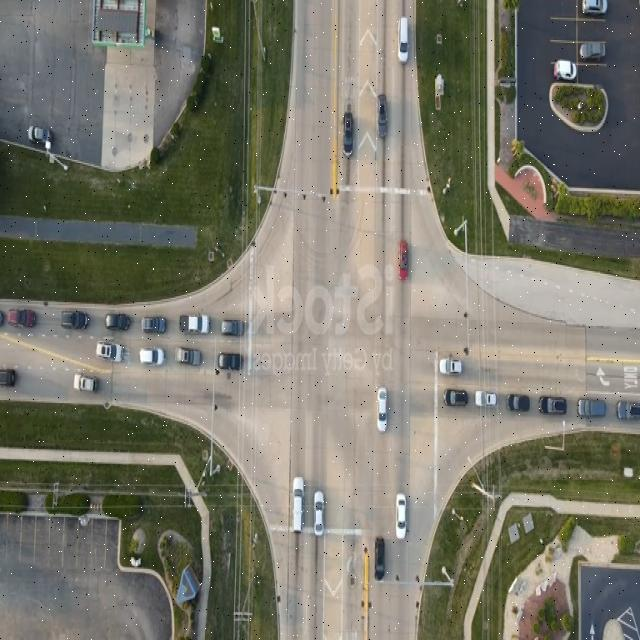car: (290, 478, 303, 532), (396, 16, 408, 63), (578, 398, 606, 418), (9, 308, 37, 328), (538, 396, 566, 416), (544, 400, 572, 420), (390, 498, 402, 544), (28, 126, 52, 148), (96, 344, 122, 364), (62, 311, 88, 331), (616, 403, 640, 424), (218, 353, 243, 373), (377, 389, 388, 433), (395, 494, 405, 539), (344, 114, 354, 158), (554, 60, 576, 80), (378, 96, 388, 140), (314, 492, 324, 536), (139, 349, 163, 367), (141, 317, 165, 335), (176, 349, 200, 367), (105, 314, 129, 332), (504, 396, 528, 414), (376, 540, 386, 582), (398, 241, 408, 281), (221, 320, 243, 338), (446, 390, 468, 408), (74, 377, 96, 395), (582, 0, 607, 15), (440, 358, 462, 375), (0, 370, 17, 390)
pickup-truck: (579, 40, 606, 60)
